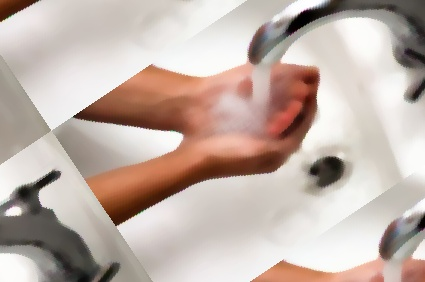washing hand: (110, 0, 424, 276)
